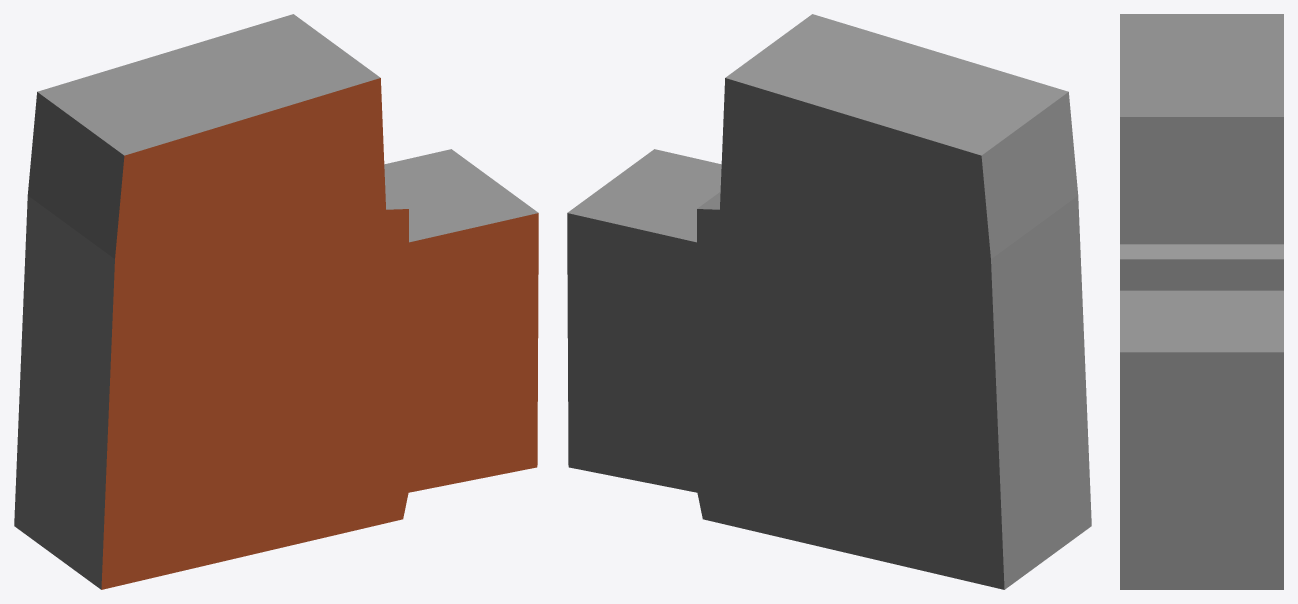
File: construction_1352_assumed_A_Casa_h6m.obj
The picture shows the model from 3 angles, left to right: view 1: azimuth 30°, elevation 25°; view 2: azimuth 150°, elevation 25°; view 3: azimuth 270°, elevation 25°; orthographic projection. The views are drawn at different scales.
Visible parts, largest first — view 1: construction_1352_assumed_A_Casa; view 2: construction_1352_assumed_A_Casa; view 3: construction_1352_assumed_A_Casa.
Part boxes in pixels (bbox=[...]): construction_1352_assumed_A_Casa: bbox=[14, 14, 538, 589]; construction_1352_assumed_A_Casa: bbox=[567, 14, 1091, 589]; construction_1352_assumed_A_Casa: bbox=[1120, 14, 1283, 589].
Size of the model in its own units: 17.36 by 16.94 by 6.
